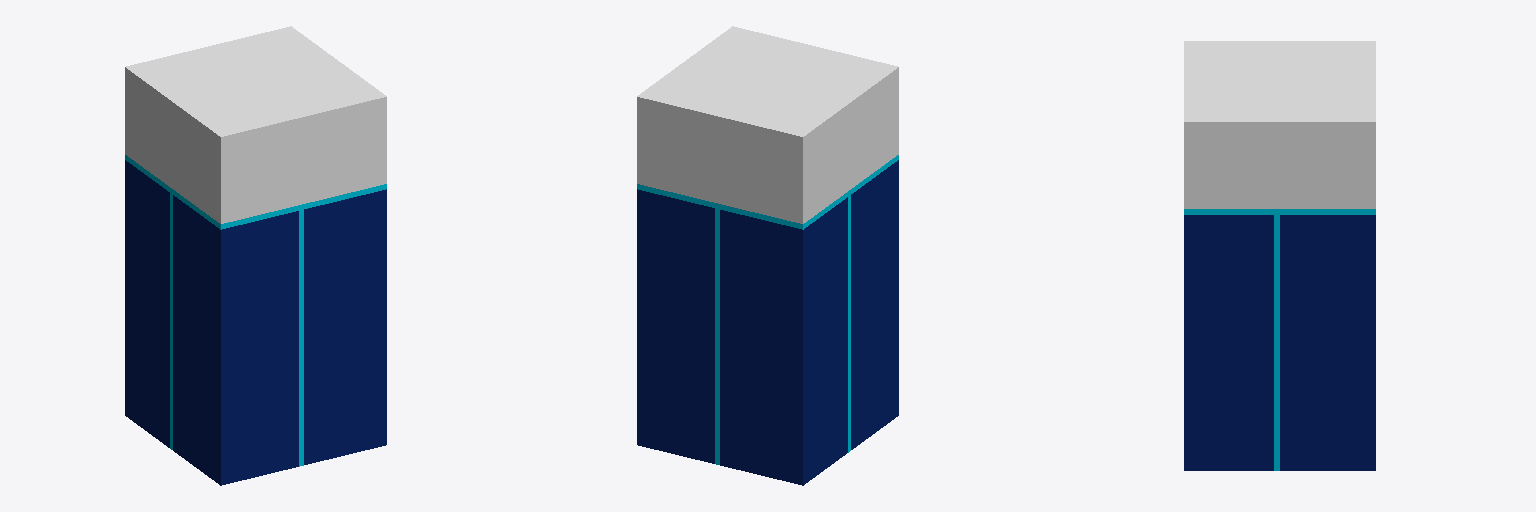
The picture shows the model from 3 angles: view 1: azimuth 30°, elevation 25°; view 2: azimuth 150°, elevation 25°; view 3: azimuth 270°, elevation 25°; orthographic projection.
Parts seen in each view (by area): view 1: 人物; view 2: 人物; view 3: 人物.
Part boxes in pixels (left/top/right/bottom): 人物: left=125, top=26, right=386, bottom=485; 人物: left=637, top=26, right=898, bottom=485; 人物: left=1184, top=41, right=1375, bottom=470.
Size of the model in its own units: 32 by 64 by 32.
Materials: 1 (1 with a texture image).